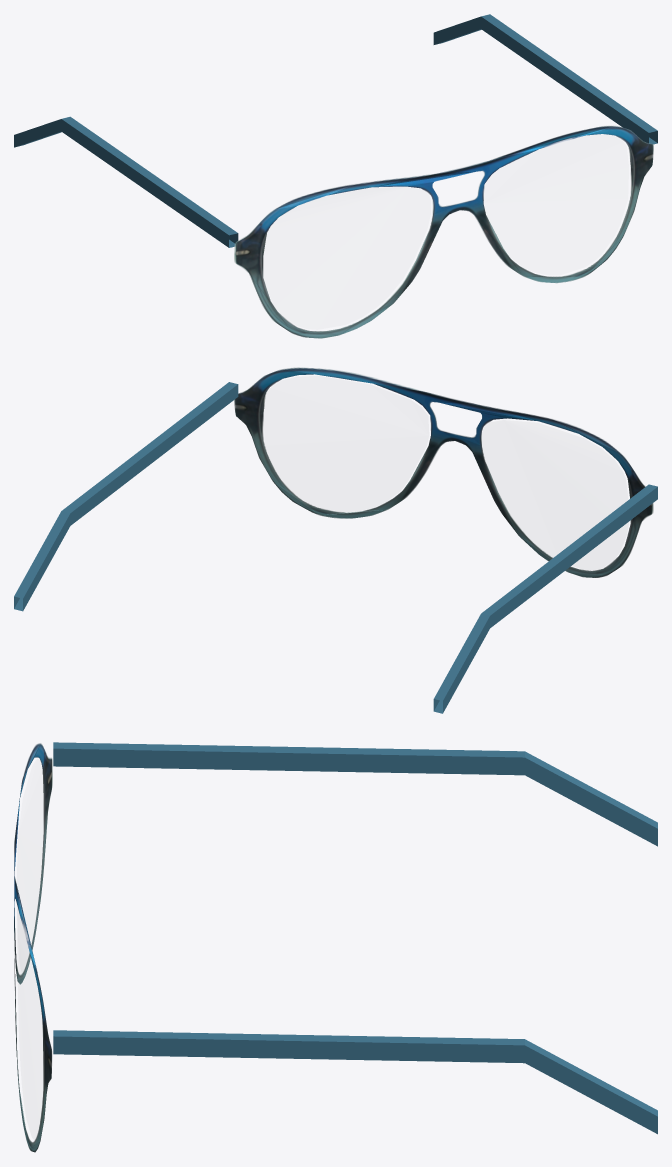
The model's file is leon-max-4038_sapphire-fade.glb.
3 views of the same model, one above another, from view 1: azimuth 30°, elevation 25°; view 2: azimuth 150°, elevation 25°; view 3: azimuth 270°, elevation 25° (orthographic). The views are drawn at different scales.
Parts seen in each view (by area): view 1: frame_front, temple_viewer_left, temple_viewer_right; view 2: frame_front, temple_viewer_left, temple_viewer_right; view 3: temple_viewer_left, temple_viewer_right, frame_front.
Part boxes in pixels (x1,y1,x2,y2): frame_front: (234,126,653,338); temple_viewer_left: (14,116,238,247); temple_viewer_right: (433,14,657,144); frame_front: (234,367,653,577); temple_viewer_left: (433,484,657,713); temple_viewer_right: (14,382,238,611); temple_viewer_left: (53,742,657,846); temple_viewer_right: (53,1030,657,1134); frame_front: (14,743,52,1152).
Bounding box in the file's own units: 0.1415 × 0.0478 × 0.131.
3 materials, 2 textured.
